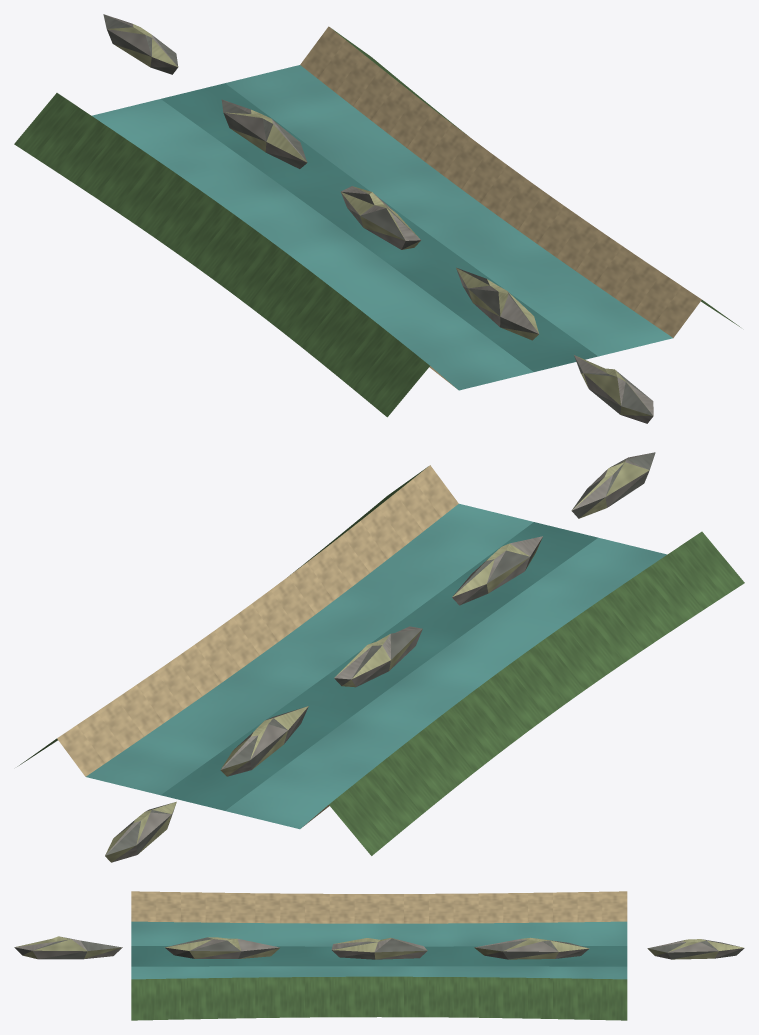
File: ford_stones.fbx
The picture shows the model from 3 angles, top to bottom: view 1: azimuth 30°, elevation 25°; view 2: azimuth 150°, elevation 25°; view 3: azimuth 270°, elevation 25°; orthographic projection. The views are drawn at different scales.
Parts seen in each view (by area): view 1: ford_stones; view 2: ford_stones; view 3: ford_stones.
Boxes of the visible parts, x1,y1,x2,y2 form: ford_stones: (14, 14, 740, 423); ford_stones: (17, 452, 744, 862); ford_stones: (14, 891, 744, 1020).
Bounding box in the file's own units: 300 × 33 × 800.
Materials: 2 (2 with a texture image).
